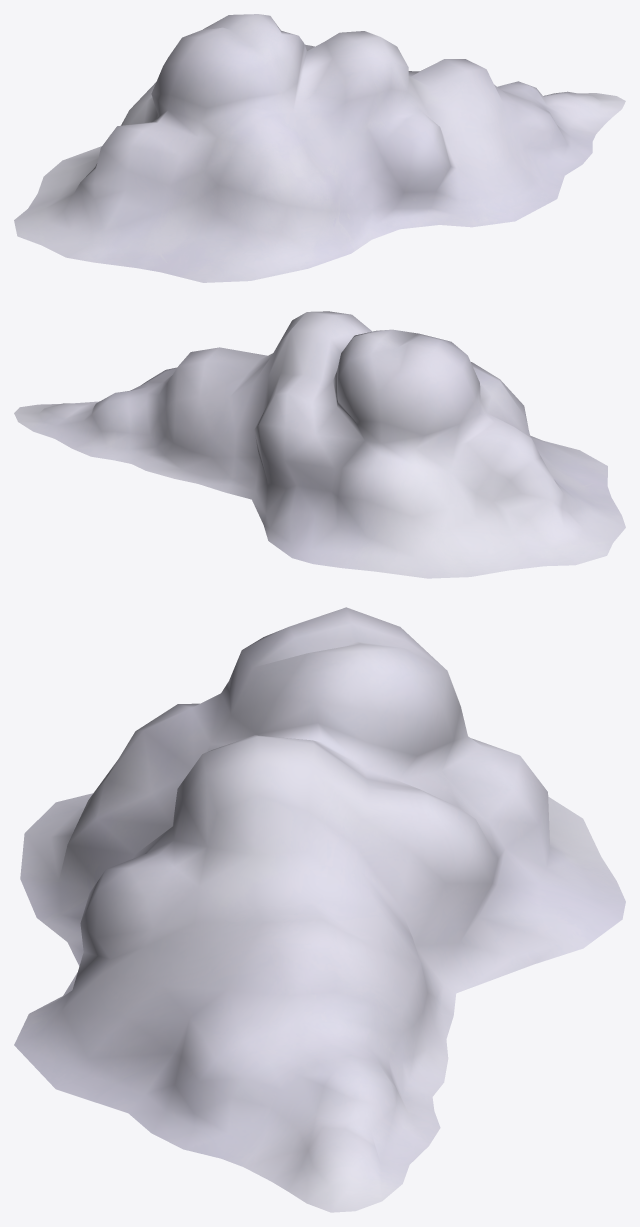
Rendered from OP_KD_Cloud_04a.FBX.
3 views of the same model, one above another, from view 1: azimuth 30°, elevation 25°; view 2: azimuth 150°, elevation 25°; view 3: azimuth 270°, elevation 25° (orthographic). The views are drawn at different scales.
Parts seen in each view (by area): view 1: OP_KD_Cloud_04a; view 2: OP_KD_Cloud_04a; view 3: OP_KD_Cloud_04a.
Part boxes in pixels (x1,y1,x2,y2): OP_KD_Cloud_04a: (14,14,625,282); OP_KD_Cloud_04a: (14,311,625,578); OP_KD_Cloud_04a: (14,607,625,1212).
Size of the model in its own units: 4592 by 1227 by 2478.
1 material, 1 textured.
